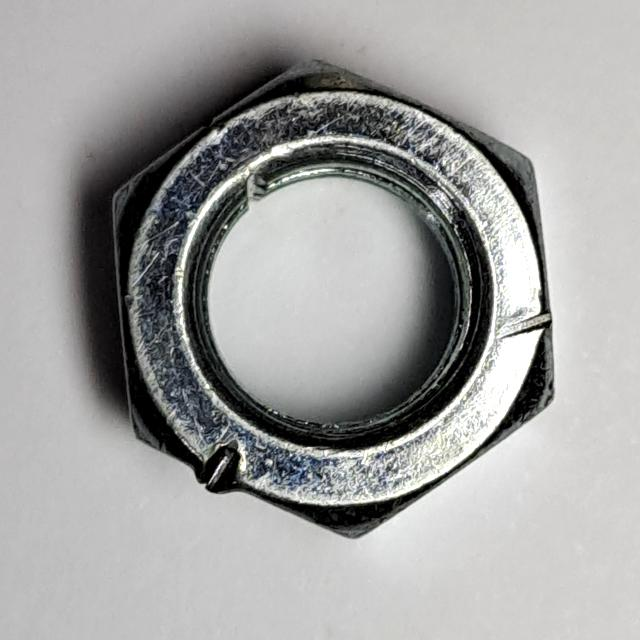Scratches: (104, 44, 566, 567)
